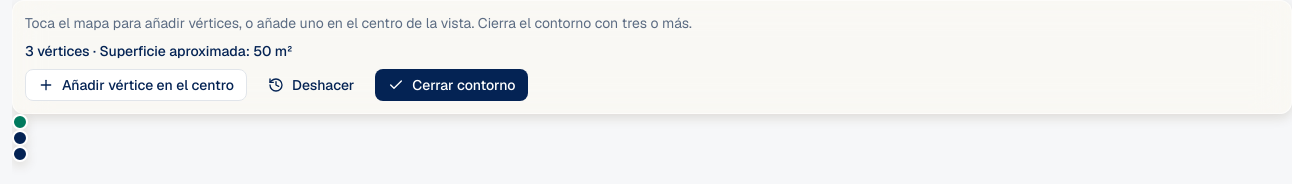
Scenario: HerramientaContorno (AV-428) › deshace la última acción, también el cierre
The image size is (1292, 184).
Click the button "Cerrar contorno".
click(452, 85)  # box [375,69,528,101]
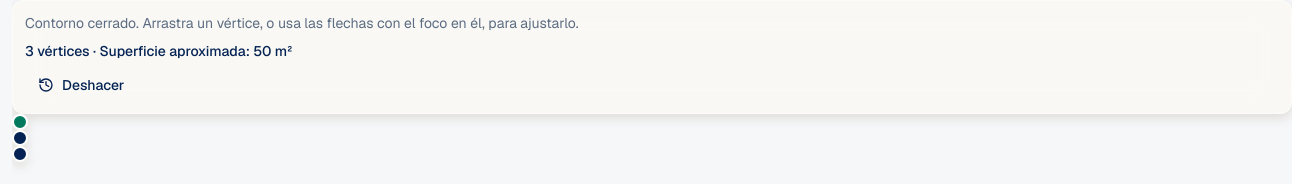
Expected: the text "Contorno cerrado" is shown, [25,14,579,32]
Click the button "Deshacer".
click(81, 85)  # box [25,69,137,101]
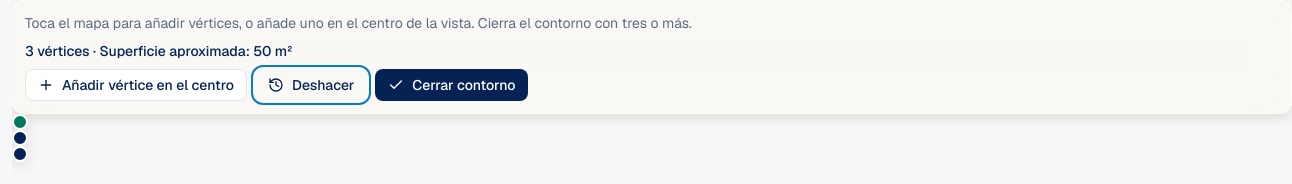
Expected: the text "Contorno cerrado" is gone
Click the button "Deshacer".
click(311, 85)  # box [255,69,367,101]
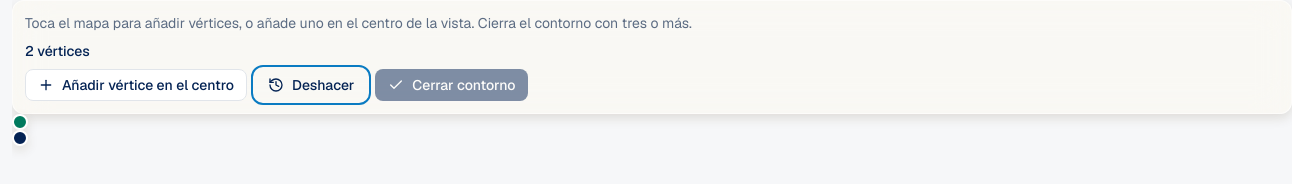
Expected: the number of buttons named "Vértice" is 2, [12,114,28,130]; [12,130,28,146]
